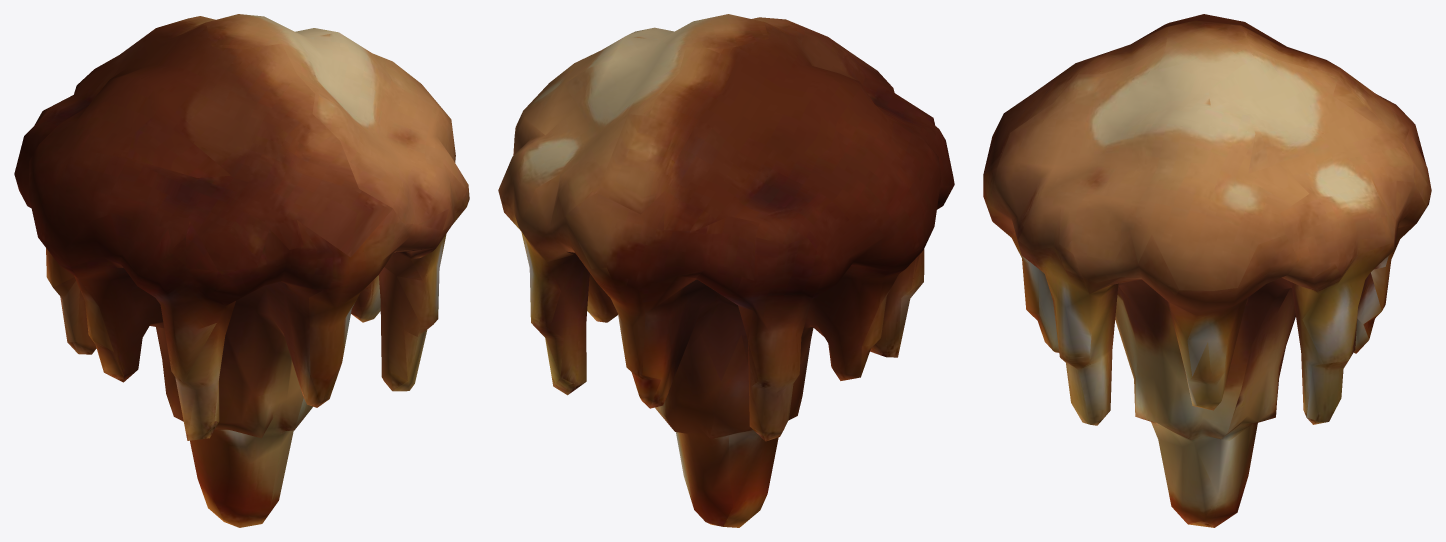
File: resin_stalactite.glb
3 renders of one model, left to right at view 1: azimuth 30°, elevation 25°; view 2: azimuth 150°, elevation 25°; view 3: azimuth 270°, elevation 25°, orthographic.
Visible parts, largest first — view 1: geometry_0; view 2: geometry_0; view 3: geometry_0.
Boxes of the visible parts, left/top/right/bottom form: geometry_0: left=14, top=14, right=469, bottom=527; geometry_0: left=498, top=14, right=954, bottom=527; geometry_0: left=983, top=14, right=1431, bottom=527.
Bounding box in the file's own units: 1.82 × 2.19 × 1.82.
1 material, 1 textured.
